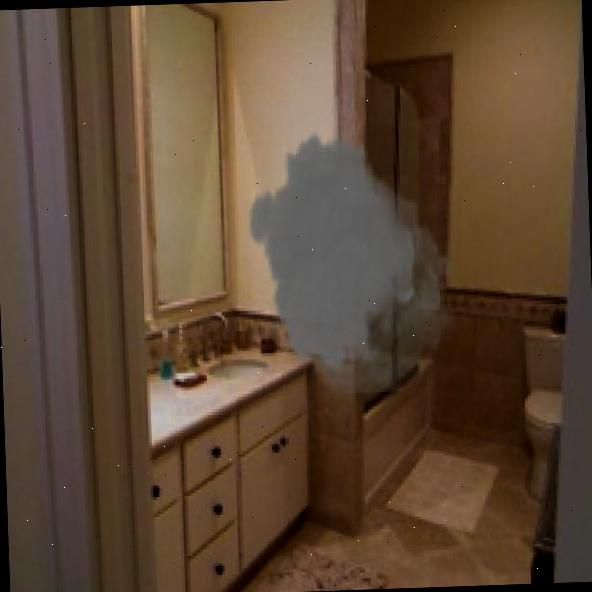smoke: (244, 123, 464, 397)
